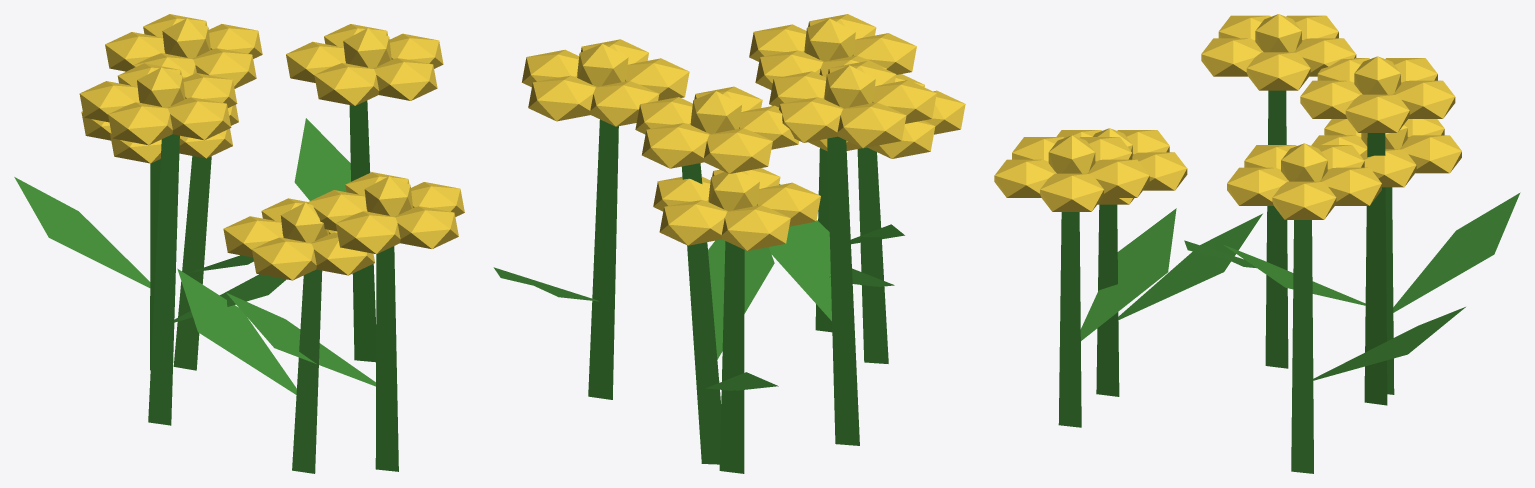
The model's file is flowers1.glb.
3 views of the same model, side by side, from view 1: azimuth 30°, elevation 25°; view 2: azimuth 150°, elevation 25°; view 3: azimuth 270°, elevation 25° (orthographic). The views are drawn at different scales.
Visible parts, largest first — view 1: flowers1; view 2: flowers1; view 3: flowers1.
Part boxes in pixels (x1,y1,x2,y2): flowers1: [14, 14, 464, 473]; flowers1: [493, 14, 965, 473]; flowers1: [994, 14, 1520, 473].
Size of the model in its own units: 0.5911 by 0.5661 by 0.7689.
